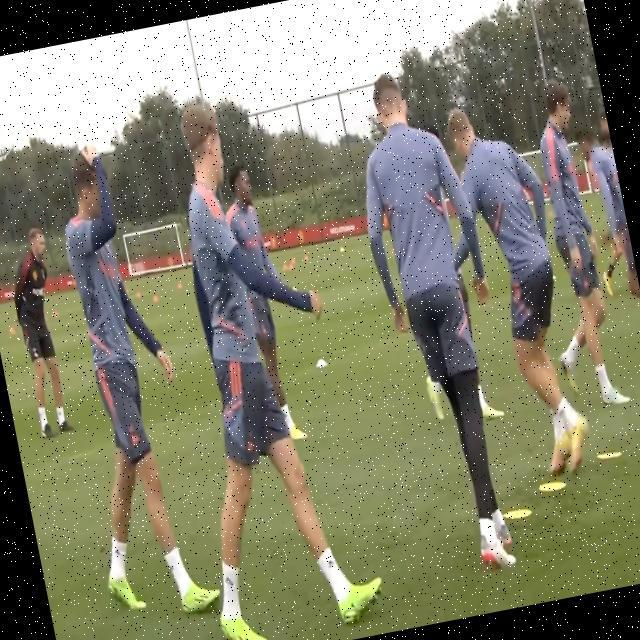Adidas: (222, 570, 236, 591), (128, 431, 141, 449), (325, 554, 338, 571)
